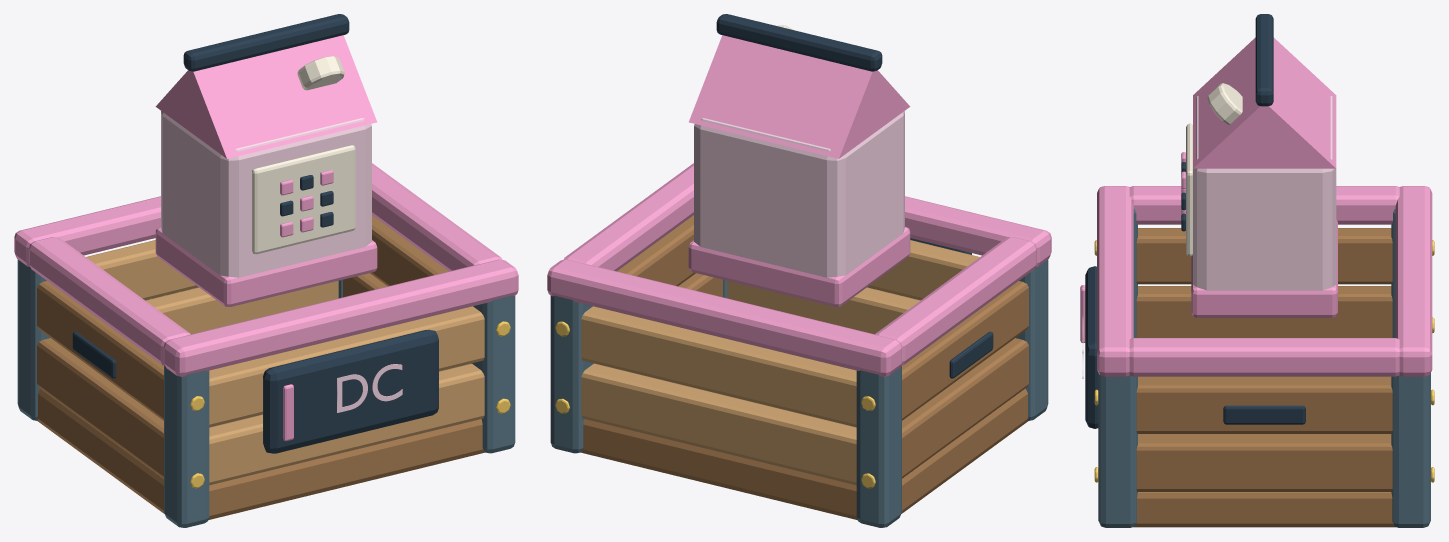
The model's file is data_cream.glb.
3 renders of one model, left to right at view 1: azimuth 30°, elevation 25°; view 2: azimuth 150°, elevation 25°; view 3: azimuth 270°, elevation 25°, orthographic.
Visible parts, largest first — view 1: Data cream carton, Folded cream carton, Colored rim.020, Solid crate floor.005, Front sign.005, Horizontal wood plank.020, Horizontal wood plank.022, Data cream label, Side wood plank.020, Colored rim.022, Reinforced corner.020, Carton lower band (+14 smaller); view 2: Data cream carton, Folded cream carton, Horizontal wood plank.021, Horizontal wood plank.023, Colored rim.021, Solid crate floor.005, Side wood plank.020, Colored rim.022, Reinforced corner.021, Carton lower band, Side wood plank.022, Colored rim.023 (+9 smaller); view 3: Data cream carton, Side wood plank.021, Side wood plank.023, Folded cream carton, Colored rim.023, Solid crate floor.005, Side wood plank.020, Colored rim.021, Colored rim.020, Side wood plank.022, Reinforced corner.022, Reinforced corner.023 (+9 smaller).
Boxes of the visible parts, x1=… form: Data cream carton: x1=161, y1=111, x2=371, y2=277; Folded cream carton: x1=155, y1=35, x2=376, y2=158; Colored rim.020: x1=164, y1=259, x2=518, y2=376; Solid crate floor.005: x1=37, y1=388, x2=484, y2=519; Front sign.005: x1=263, y1=329, x2=438, y2=453; Horizontal wood plank.020: x1=209, y1=363, x2=484, y2=485; Horizontal wood plank.022: x1=209, y1=306, x2=484, y2=427; Data cream label: x1=252, y1=145, x2=355, y2=254; Side wood plank.020: x1=37, y1=338, x2=163, y2=478; Colored rim.022: x1=29, y1=237, x2=190, y2=365; Reinforced corner.020: x1=164, y1=365, x2=209, y2=527; Carton lower band: x1=155, y1=227, x2=377, y2=306; Data cream carton: x1=694, y1=111, x2=904, y2=277; Folded cream carton: x1=689, y1=35, x2=910, y2=158; Horizontal wood plank.021: x1=581, y1=363, x2=856, y2=485; Horizontal wood plank.023: x1=581, y1=306, x2=856, y2=427; Colored rim.021: x1=547, y1=259, x2=901, y2=376; Solid crate floor.005: x1=581, y1=388, x2=1028, y2=519; Side wood plank.020: x1=902, y1=338, x2=1028, y2=478; Colored rim.022: x1=875, y1=237, x2=1036, y2=365; Reinforced corner.021: x1=856, y1=365, x2=901, y2=527; Carton lower band: x1=688, y1=227, x2=910, y2=306; Side wood plank.022: x1=902, y1=281, x2=1028, y2=420; Colored rim.023: x1=563, y1=163, x2=693, y2=271; Data cream carton: x1=1193, y1=96, x2=1336, y2=290; Side wood plank.021: x1=1136, y1=435, x2=1392, y2=491; Side wood plank.023: x1=1136, y1=377, x2=1392, y2=433; Folded cream carton: x1=1193, y1=37, x2=1336, y2=168; Colored rim.023: x1=1129, y1=338, x2=1399, y2=376; Solid crate floor.005: x1=1133, y1=376, x2=1395, y2=527; Side wood plank.020: x1=1136, y1=286, x2=1392, y2=337; Colored rim.021: x1=1395, y1=186, x2=1432, y2=376; Colored rim.020: x1=1097, y1=186, x2=1133, y2=376; Side wood plank.022: x1=1136, y1=228, x2=1392, y2=284; Reinforced corner.022: x1=1098, y1=373, x2=1137, y2=527; Reinforced corner.023: x1=1391, y1=373, x2=1430, y2=527.
Size of the model in its own units: 1.32 by 1.44 by 1.16.
